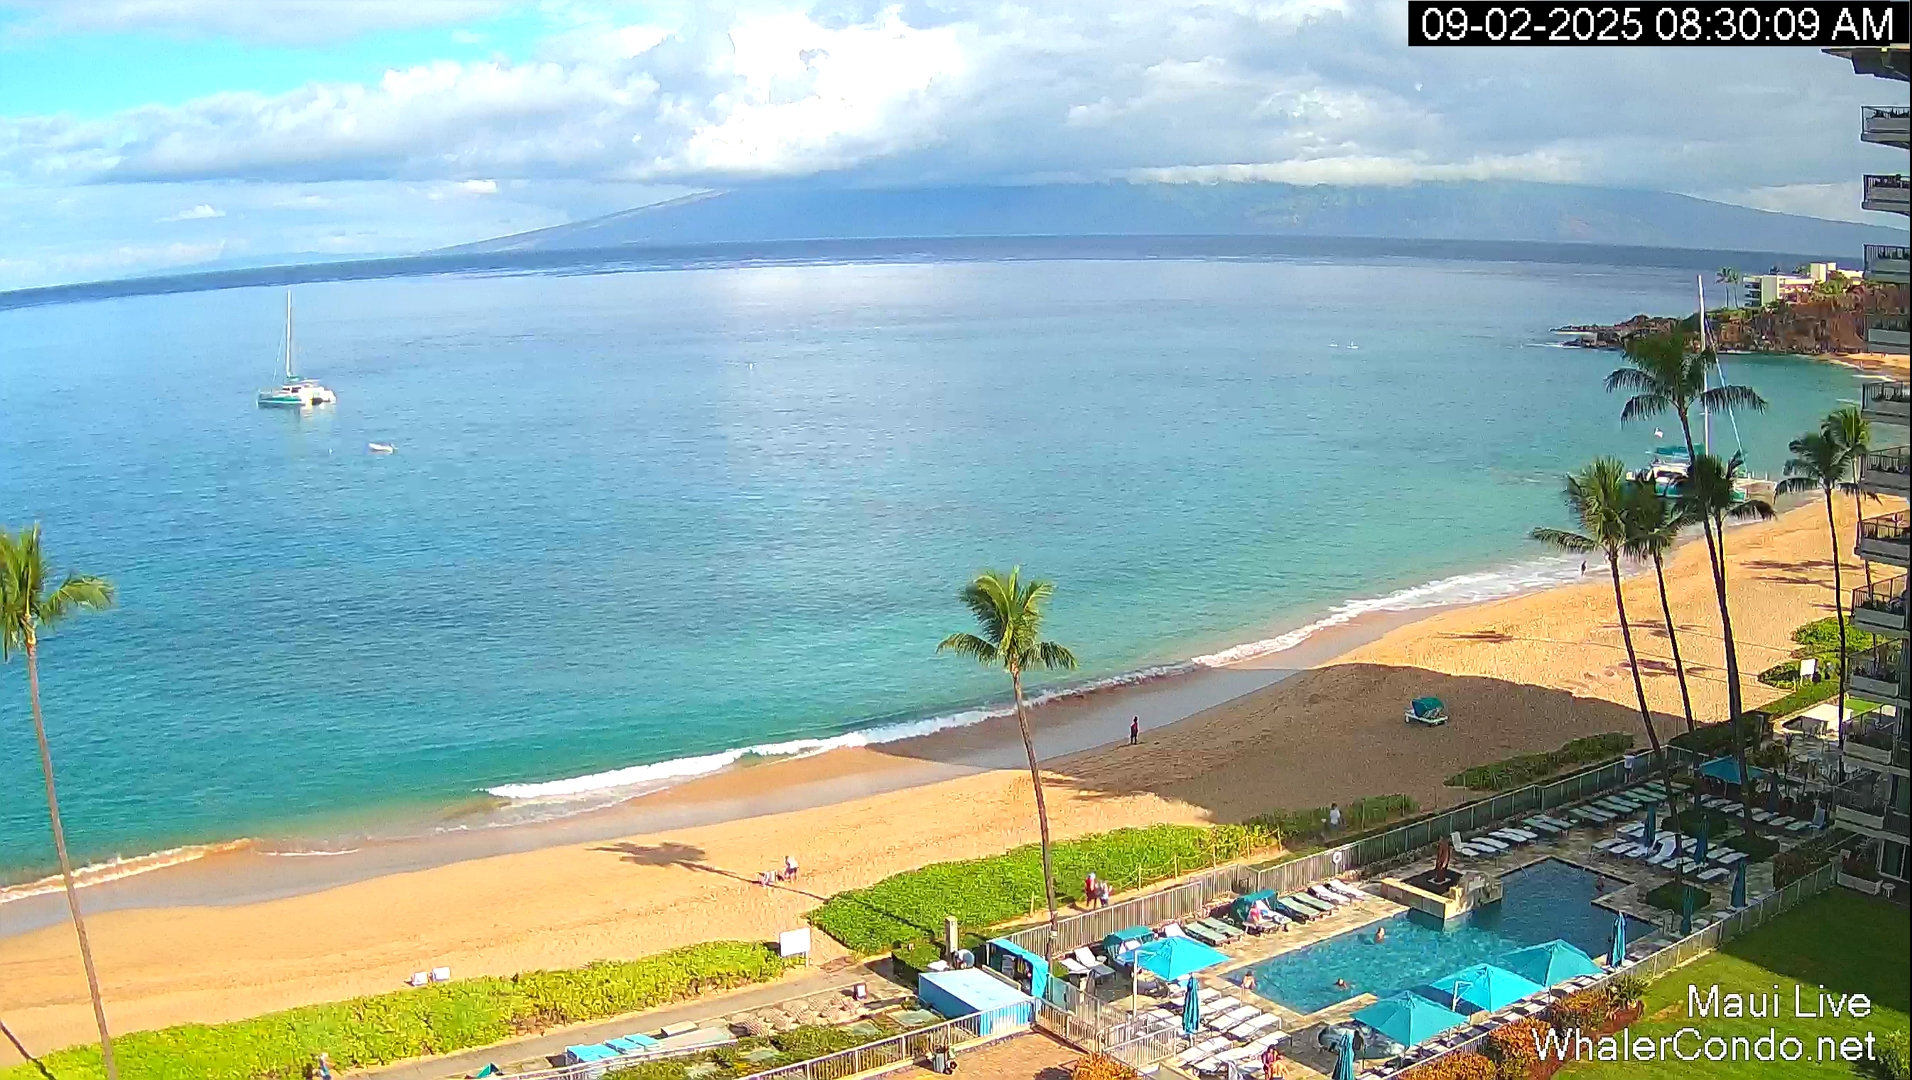boat: (256, 290, 337, 407), (460, 1031, 640, 1080), (1404, 695, 1448, 726), (1653, 465, 1664, 496)
person: (1271, 1053, 1290, 1080), (1084, 873, 1097, 909), (784, 855, 800, 884), (1262, 1045, 1275, 1080), (1329, 802, 1341, 831), (1242, 970, 1257, 990), (1129, 716, 1139, 745), (1098, 883, 1108, 908)
